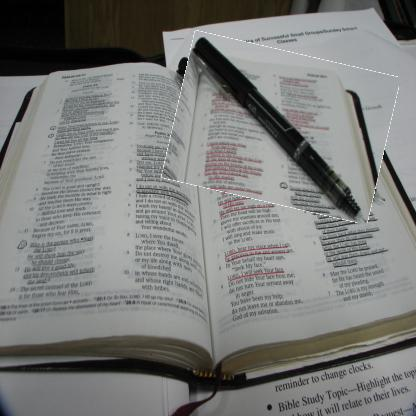Pen: (168, 41, 393, 214)
